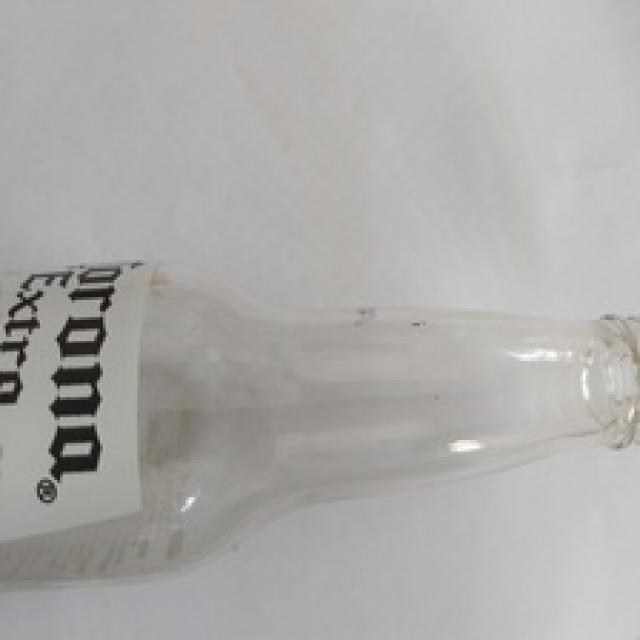garbage: (0, 245, 640, 591)
